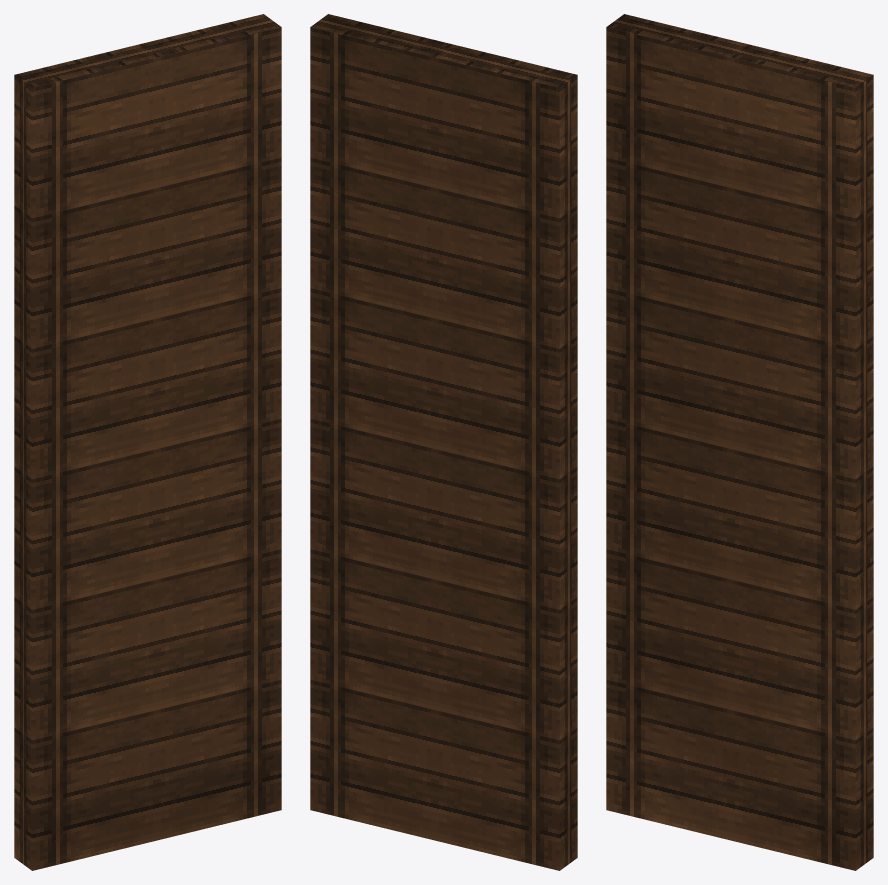
File: SM_AP_WoodenBridge_0.glb
3 renders of one model, left to right at view 1: azimuth 30°, elevation 25°; view 2: azimuth 150°, elevation 25°; view 3: azimuth 330°, elevation 25°, orthographic.
Visible parts, largest first — view 1: SM_AP_WoodenBridge_0; view 2: SM_AP_WoodenBridge_0; view 3: SM_AP_WoodenBridge_0.
Part boxes in pixels (x1=…): SM_AP_WoodenBridge_0: x1=14, y1=14, x2=281, y2=870; SM_AP_WoodenBridge_0: x1=310, y1=14, x2=577, y2=870; SM_AP_WoodenBridge_0: x1=606, y1=14, x2=873, y2=870.
Size of the model in its own units: 8 by 24 by 1.
1 material, 1 textured.
